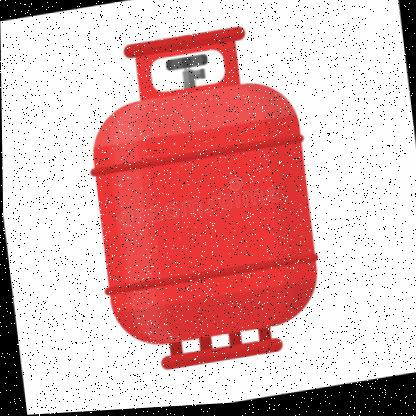gas-tank: (53, 0, 343, 399)
